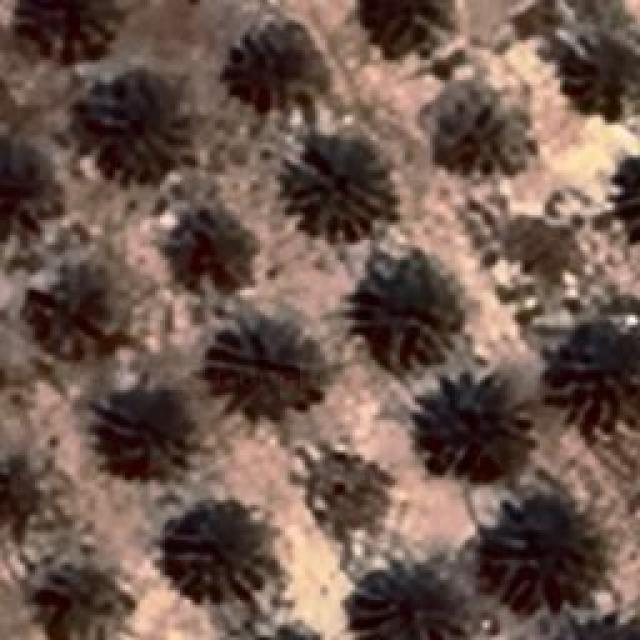PalmTree: (94, 68, 627, 197), (26, 95, 94, 602), (350, 245, 462, 370), (202, 305, 322, 420), (478, 506, 608, 602), (278, 140, 392, 242), (420, 75, 530, 180), (416, 382, 522, 472), (78, 77, 182, 165), (235, 31, 335, 121), (356, 562, 466, 640), (175, 504, 265, 596), (560, 324, 640, 426), (98, 388, 192, 472), (160, 208, 250, 282), (34, 270, 108, 360), (558, 42, 638, 122), (23, 0, 132, 55), (371, 0, 461, 58), (0, 142, 62, 225), (0, 445, 38, 533), (621, 150, 640, 243), (560, 619, 640, 640)
